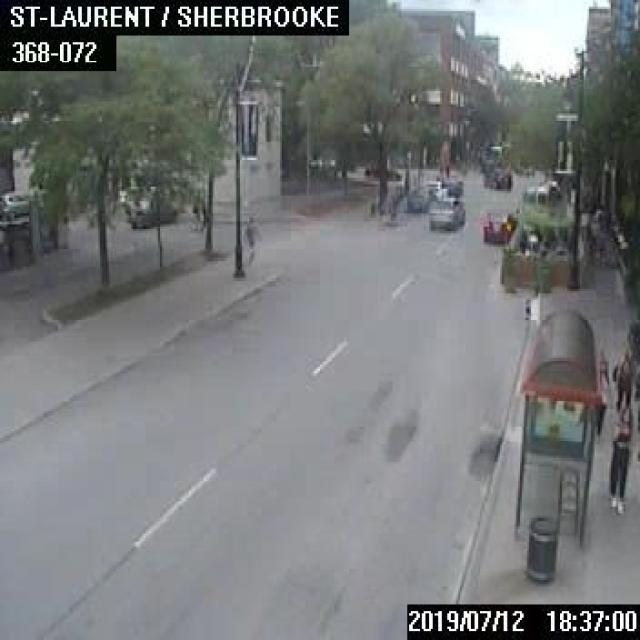pedestrian: (606, 416, 629, 516), (611, 353, 633, 411), (241, 215, 260, 269), (188, 190, 204, 229)
vehicle: (124, 194, 176, 226), (428, 195, 463, 229), (482, 209, 516, 242), (364, 162, 400, 182), (0, 190, 27, 216), (480, 166, 511, 186), (407, 185, 428, 210), (422, 178, 446, 199), (440, 172, 461, 194)
